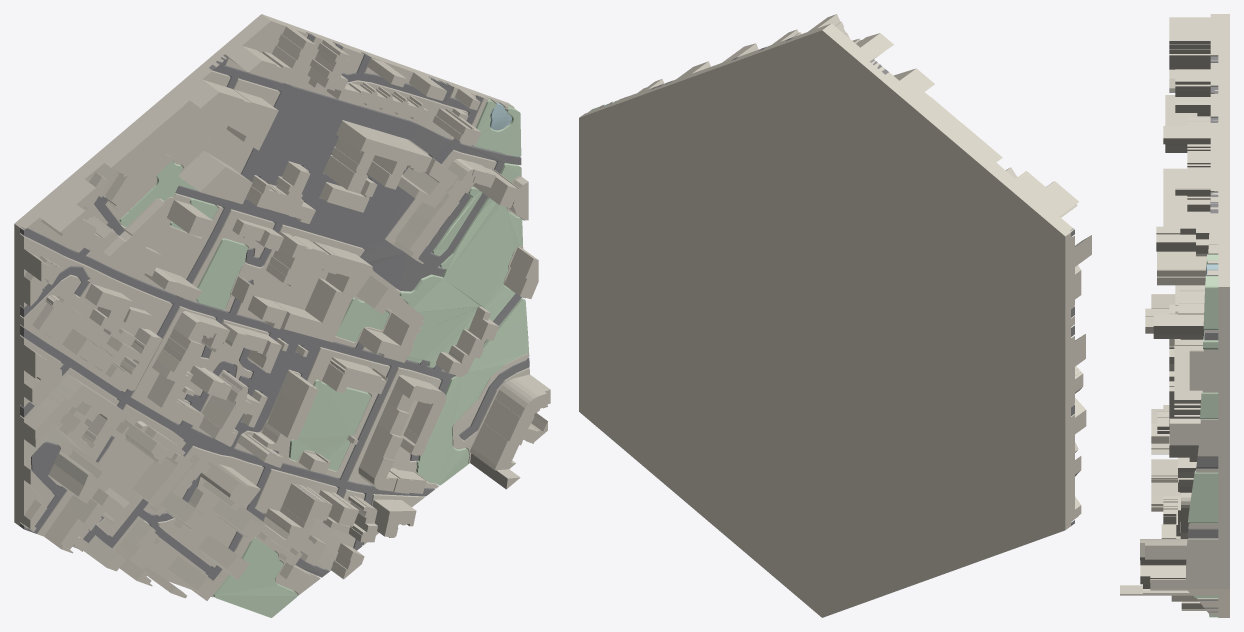
The model's file is map-dense.glb.
The picture shows the model from 3 angles, left to right: view 1: azimuth 30°, elevation 25°; view 2: azimuth 150°, elevation 25°; view 3: azimuth 270°, elevation 25°; orthographic projection. The views are drawn at different scales.
Parts seen in each view (by area): view 1: Base, Roads, Parks; view 2: Base; view 3: Base, Parks, Roads.
Boxes of the visible parts, x1,y1,x2,y2 form: Base: [14, 14, 550, 600]; Roads: [20, 32, 529, 580]; Parks: [118, 98, 528, 617]; Base: [579, 14, 1091, 617]; Base: [1120, 14, 1229, 617]; Parks: [1187, 254, 1218, 617]; Roads: [1187, 56, 1218, 612].
Bounding box in the file's own units: 69.28 × 80 × 13.2.
